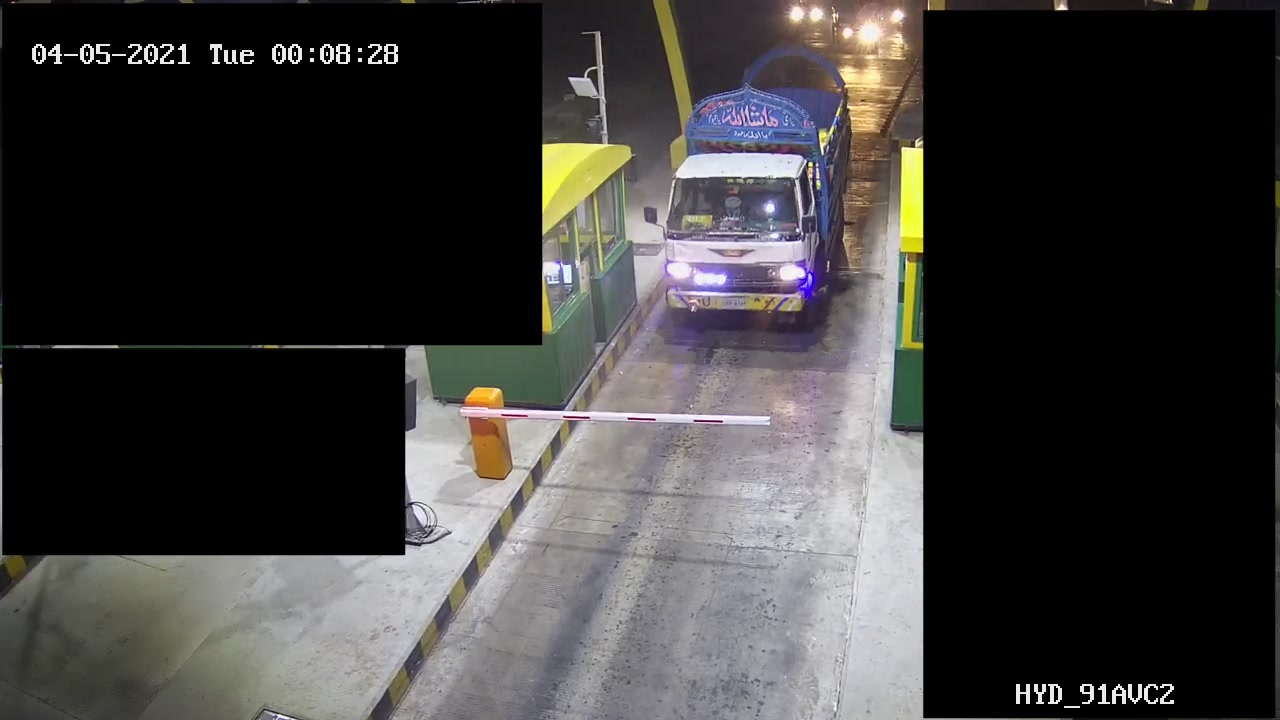F5: (644, 48, 859, 324)
